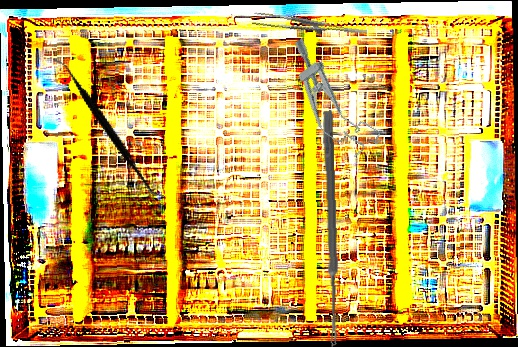Spatula Surgical: (20, 56, 199, 199)
Speculum: (271, 32, 385, 166)
Surgical Spoon: (321, 110, 341, 347)
Tissue Forceps: (251, 1, 368, 53)
